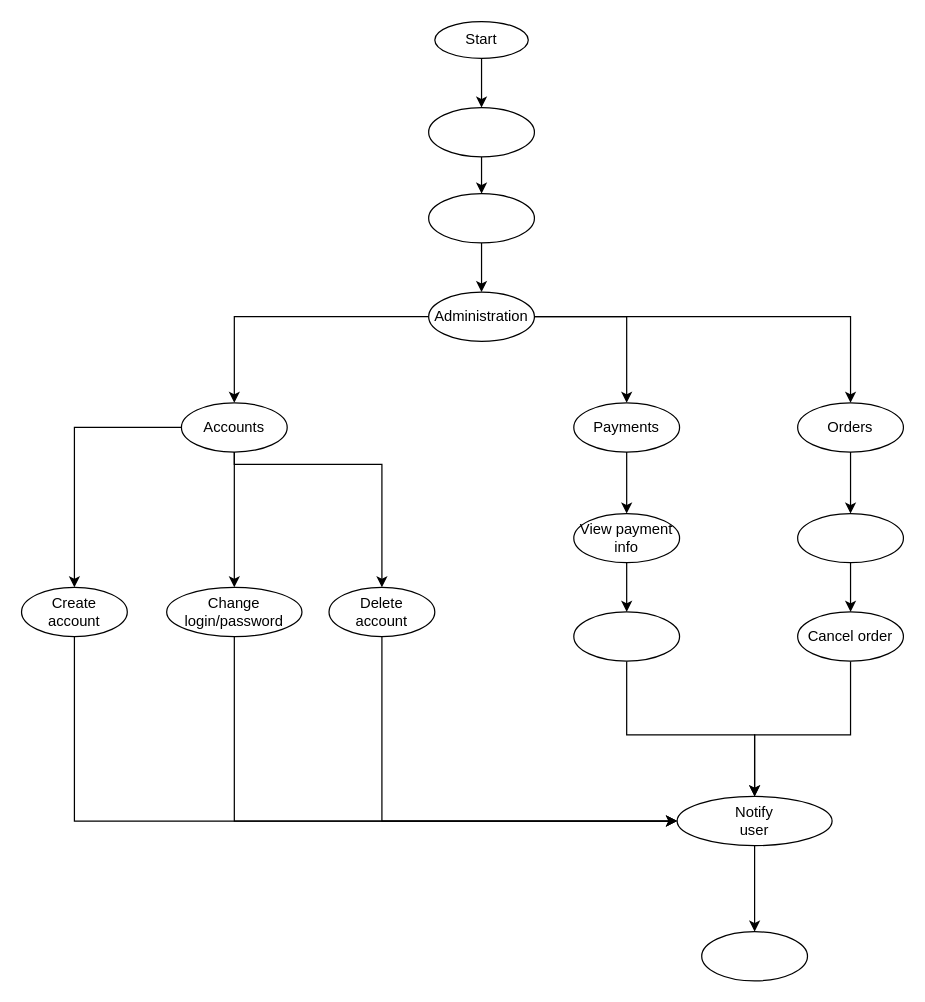
The diagram is 925 pixels wide and 1002 high, and some of its shapes have lost their labels. The centre of each missing label's shape, as x and y in pixels:
Cancel payment: the point at 626,636
End: the point at 753,955
Home: the point at 480,217
Login: the point at 480,131
View order info: the point at 849,537
